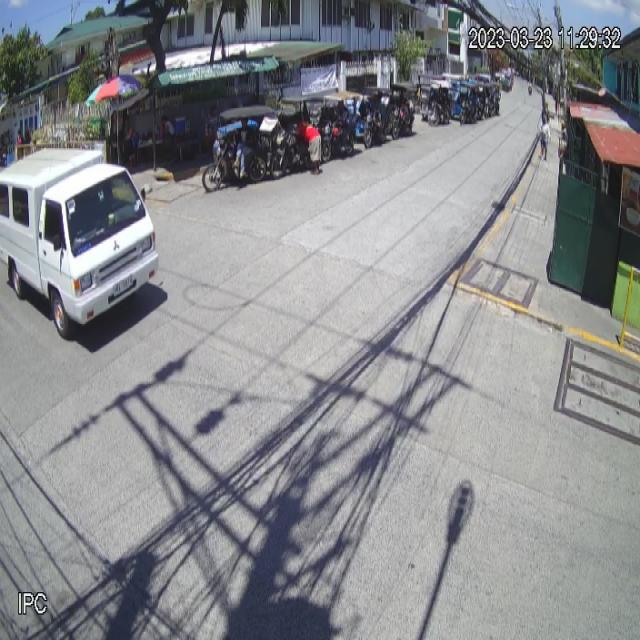Van: (0, 147, 159, 343)
